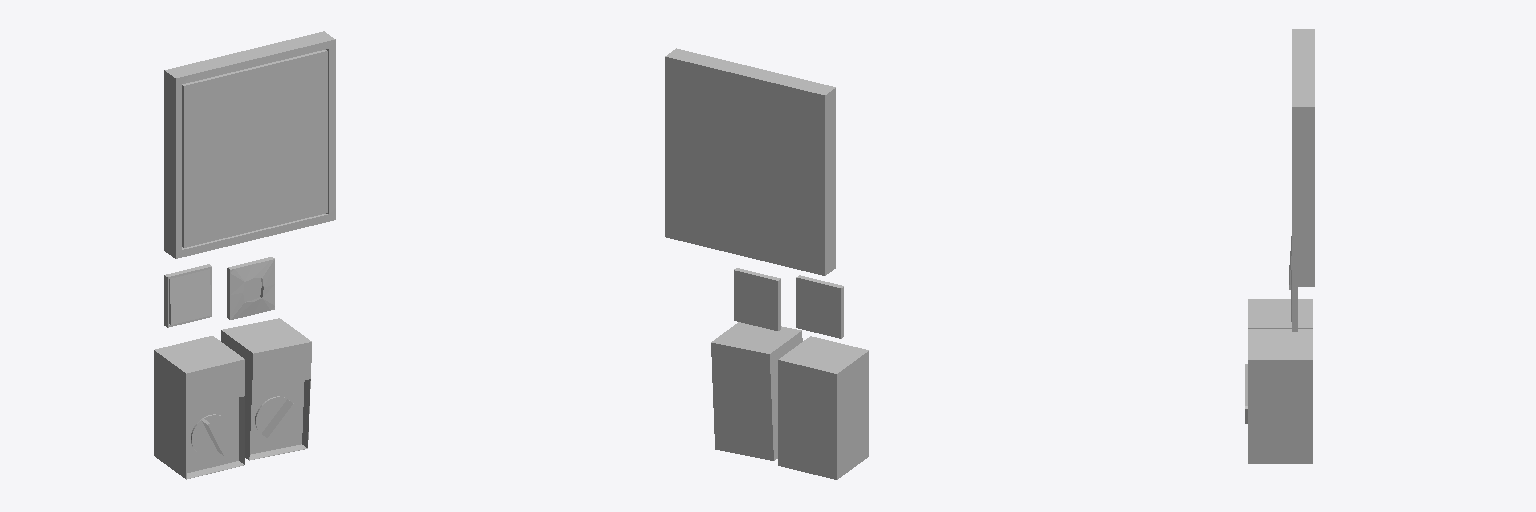
The model's file is fun_control.obj.
3 renders of one model, left to right at view 1: azimuth 30°, elevation 25°; view 2: azimuth 150°, elevation 25°; view 3: azimuth 270°, elevation 25°, orthographic.
Visible parts, largest first — view 1: Plane.001, Cube.001_Cube.002, Cube.002_Cube.008, Plane.002, Plane.003; view 2: Plane.001, Cube.001_Cube.002, Cube.002_Cube.008, Plane.002, Plane.003; view 3: Cube.002_Cube.008, Plane.001, Cube.001_Cube.002.
Boxes of the visible parts, x1=… form: Plane.001: x1=164, y1=31, x2=335, y2=258; Cube.001_Cube.002: x1=154, y1=336, x2=244, y2=479; Cube.002_Cube.008: x1=221, y1=318, x2=311, y2=460; Plane.002: x1=164, y1=264, x2=211, y2=327; Plane.003: x1=227, y1=257, x2=274, y2=319; Plane.001: x1=665, y1=48, x2=835, y2=275; Cube.001_Cube.002: x1=778, y1=336, x2=868, y2=479; Cube.002_Cube.008: x1=711, y1=322, x2=802, y2=460; Plane.002: x1=796, y1=275, x2=843, y2=338; Plane.003: x1=734, y1=268, x2=780, y2=330; Cube.002_Cube.008: x1=1245, y1=329, x2=1312, y2=463; Plane.001: x1=1292, y1=29, x2=1314, y2=286; Cube.001_Cube.002: x1=1245, y1=299, x2=1312, y2=405.
Size of the model in its own units: 1.87 by 4 by 0.6551.